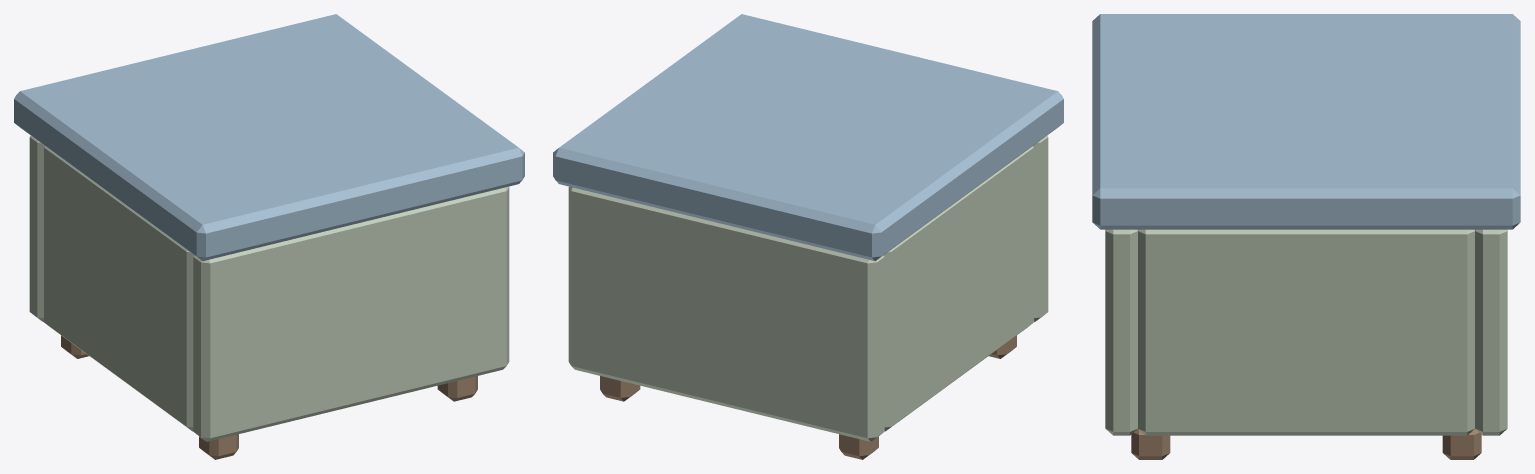
File: StorageOttoman.glb
3 views of the same model, side by side, from view 1: azimuth 30°, elevation 25°; view 2: azimuth 150°, elevation 25°; view 3: azimuth 270°, elevation 25° (orthographic). The views are drawn at different scales.
Visible parts, largest first — view 1: StorageOttoman_Box, StorageOttoman_Lid; view 2: StorageOttoman_Box, StorageOttoman_Lid; view 3: StorageOttoman_Lid, StorageOttoman_Box.
Boxes of the visible parts, x1,y1,x2,y2 form: StorageOttoman_Box: [29, 136, 509, 459]; StorageOttoman_Lid: [14, 14, 524, 261]; StorageOttoman_Box: [568, 136, 1048, 459]; StorageOttoman_Lid: [553, 14, 1063, 261]; StorageOttoman_Lid: [1092, 14, 1520, 229]; StorageOttoman_Box: [1105, 229, 1507, 459].
Size of the model in its own units: 0.66 by 0.49 by 0.66.
